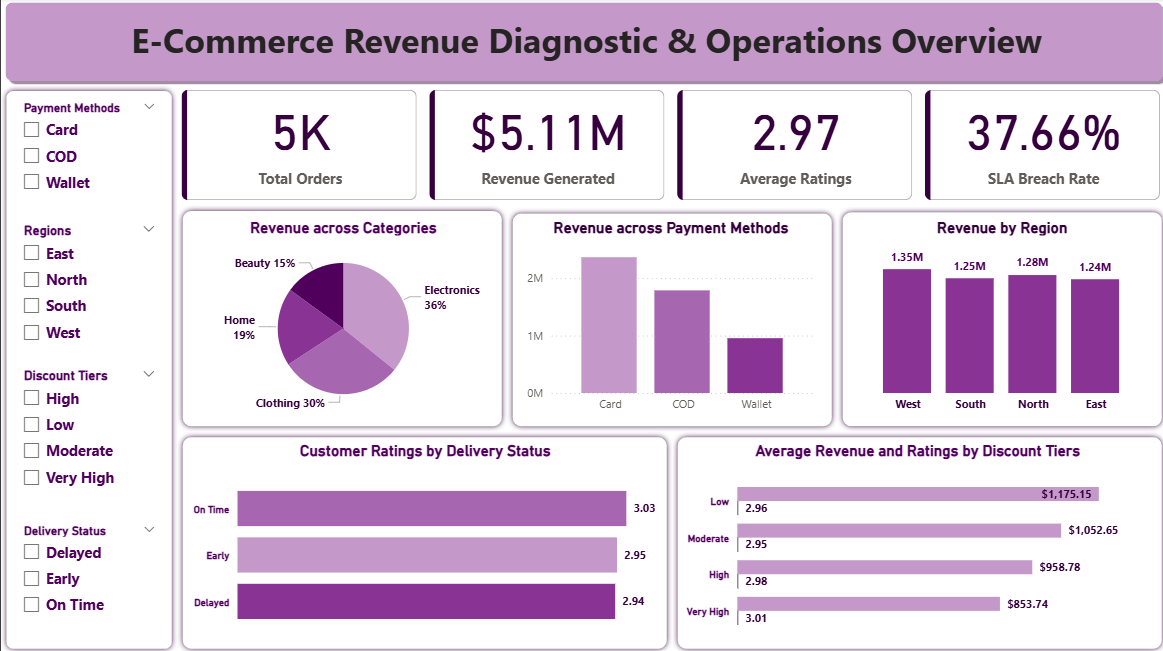

Layout of this report page (visuals, bound fields, positions):
{"tool":"powerbi","page":{"name":"Page 1","canvas":[1280,720],"ordinal":0},"visuals":[{"type":"shape","box":[0,0,1280.3,96.1],"z":0},{"type":"cardVisual","fields":{"Data":["ecommerce_sales_database ecommerce_sales_data.total_orders","ecommerce_sales_database ecommerce_sales_data.Revenue Generated","ecommerce_sales_database ecommerce_sales_data.Average Ratings","ecommerce_sales_database ecommerce_sales_data.SLA Breach Rate"]},"box":[193.5,96.1,1086.8,131.7],"z":1000},{"type":"textbox","box":[19.2,15.1,1247.3,67.2],"z":2000},{"type":"shape","box":[918,229.2,362.3,247],"z":3000},{"type":"columnChart","title":"Revenue by Region","fields":{"Category":["ecommerce_sales_database ecommerce_sales_data.region"],"Y":["Sum(ecommerce_sales_database ecommerce_sales_data.revenue)"]},"box":[935.9,241.5,326.6,222.3],"z":4000},{"type":"shape","box":[555.7,230.5,362.3,245.6],"z":5000},{"type":"shape","box":[193.5,227.8,362.3,248.4],"z":6000},{"type":"clusteredColumnChart","title":"Revenue across Payment Methods","fields":{"Category":["ecommerce_sales_database ecommerce_sales_data.payment_method"],"Y":["Sum(ecommerce_sales_database ecommerce_sales_data.revenue)"]},"box":[572.2,241.5,326.6,222.3],"z":7000},{"type":"pieChart","title":"Revenue across Categories","fields":{"Category":["ecommerce_sales_database ecommerce_sales_data.product_category"],"Y":["Sum(ecommerce_sales_database ecommerce_sales_data.revenue)"]},"box":[215.4,241.5,321.1,222.3],"z":8000},{"type":"shape","box":[0,96.1,193.5,624.4],"z":9000},{"type":"slicer","fields":{"Values":["ecommerce_sales_database ecommerce_sales_data.payment_method"]},"box":[12.3,108.4,168.8,148.2],"z":10000},{"type":"slicer","fields":{"Values":["ecommerce_sales_database ecommerce_sales_data.region"]},"box":[12.3,241.5,168.8,152.3],"z":12000},{"type":"shape","box":[736.9,476.2,543.4,244.3],"z":13000},{"type":"clusteredBarChart","title":"Average Revenue and Ratings by Discount Tiers","fields":{"Category":["ecommerce_sales_database ecommerce_sales_data.Discount Tier"],"Y":["Avg(ecommerce_sales_database ecommerce_sales_data.revenue)","Avg(ecommerce_sales_database ecommerce_sales_data.customer_rating)"]},"box":[746.5,487.1,520.1,223.7],"z":14000},{"type":"shape","box":[193.5,476.2,543.4,244.3],"z":15000},{"type":"slicer","fields":{"Values":["ecommerce_sales_database ecommerce_sales_data.Discount Tier"]},"box":[12.3,400.7,168.8,150.9],"z":17000},{"type":"clusteredBarChart","title":"Customer Ratings by Delivery Status","fields":{"Category":["ecommerce_sales_database ecommerce_sales_data.Delivery Status"],"Y":["Avg(ecommerce_sales_database ecommerce_sales_data.customer_rating)"]},"box":[205.8,487.1,520.1,222.3],"z":17001},{"type":"slicer","fields":{"Values":["ecommerce_sales_database ecommerce_sales_data.Delivery Status"]},"box":[12.3,572.2,168.8,137.2],"z":17002}]}

Visuals, with their boxes in screenshot pixels (x1, y1, x2, y2), scaled from the page's 1280x720 canvas onto the 1163x651 screenshot:
shape: bbox(0, 0, 1162, 87)
cardVisual - ecommerce_sales_database ecommerce_sales_data.total_orders x ecommerce_sales_database ecommerce_sales_data.Revenue Generated: bbox(176, 87, 1162, 206)
textbox: bbox(17, 14, 1151, 74)
shape: bbox(834, 207, 1162, 431)
"Revenue by Region" columnChart: bbox(850, 218, 1147, 419)
shape: bbox(505, 208, 834, 430)
shape: bbox(176, 206, 505, 431)
"Revenue across Payment Methods" clusteredColumnChart: bbox(520, 218, 817, 419)
"Revenue across Categories" pieChart: bbox(196, 218, 487, 419)
shape: bbox(0, 87, 176, 650)
slicer - ecommerce_sales_database ecommerce_sales_data.payment_method: bbox(11, 98, 165, 232)
slicer - ecommerce_sales_database ecommerce_sales_data.region: bbox(11, 218, 165, 356)
shape: bbox(670, 431, 1162, 650)
"Average Revenue and Ratings by Discount Tiers" clusteredBarChart: bbox(678, 440, 1151, 643)
shape: bbox(176, 431, 670, 650)
slicer - ecommerce_sales_database ecommerce_sales_data.Discount Tier: bbox(11, 362, 165, 499)
"Customer Ratings by Delivery Status" clusteredBarChart: bbox(187, 440, 660, 641)
slicer - ecommerce_sales_database ecommerce_sales_data.Delivery Status: bbox(11, 517, 165, 641)
